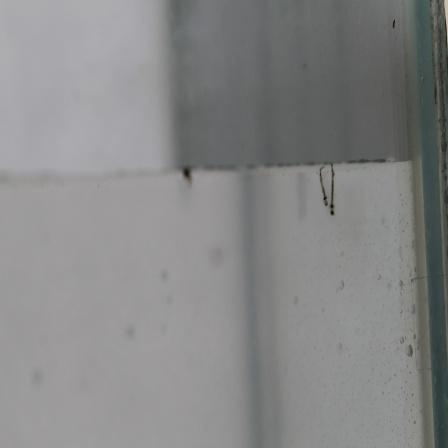Jentik-Nyamuk: (314, 164, 340, 220)
